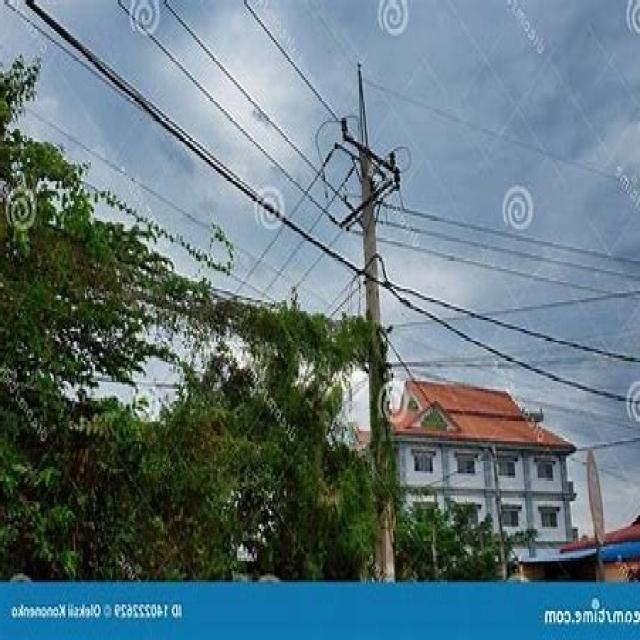critical vegetation: (22, 210, 372, 442)
